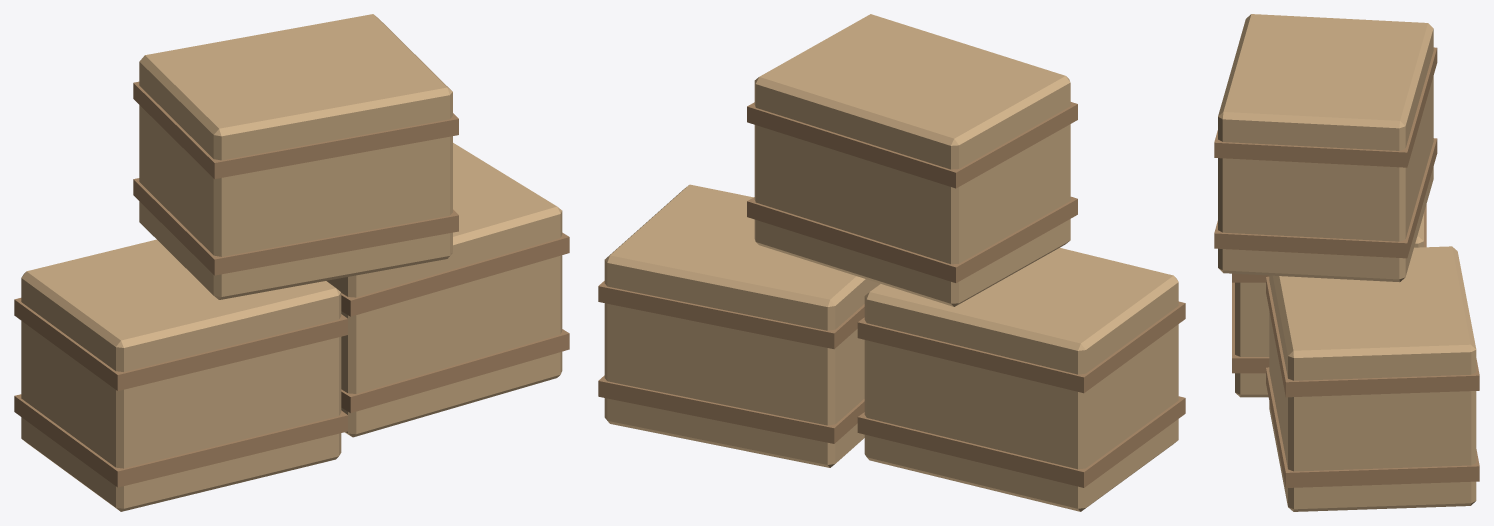
The model's file is crates.glb.
3 renders of one model, left to right at view 1: azimuth 30°, elevation 25°; view 2: azimuth 150°, elevation 25°; view 3: azimuth 270°, elevation 25°, orthographic. The views are drawn at different scales.
Parts seen in each view (by area): view 1: crates; view 2: crates; view 3: crates.
Boxes of the visible parts, x1,y1,x2,y2 form: crates: [14, 14, 569, 511]; crates: [598, 14, 1185, 511]; crates: [1214, 14, 1479, 511].
Size of the model in its own units: 0.9385 by 0.66 by 0.4778.
